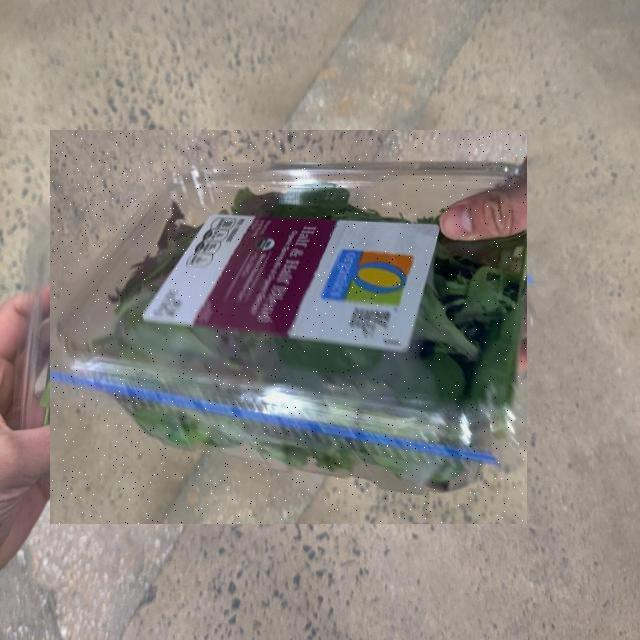Lettuce: (50, 131, 527, 525)
